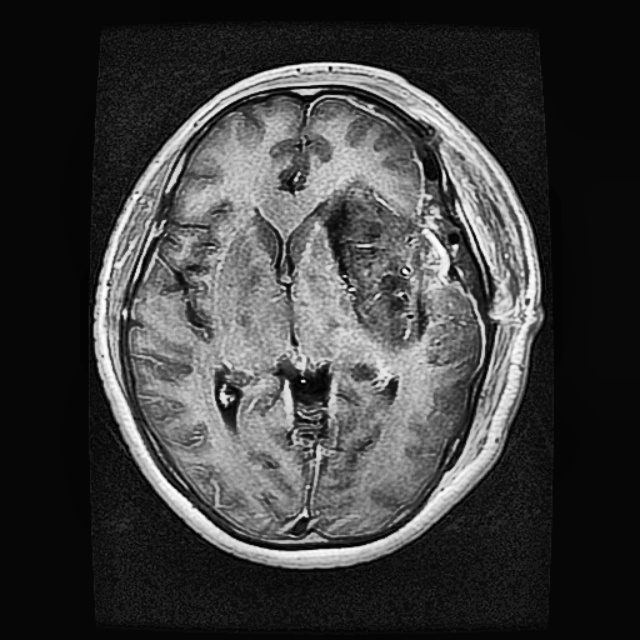Pituitary: (323, 178, 484, 368)
